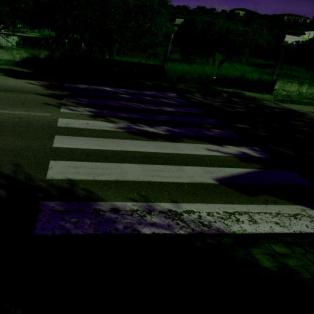Paso de Cebra: (28, 158, 312, 237), (53, 104, 248, 140)
